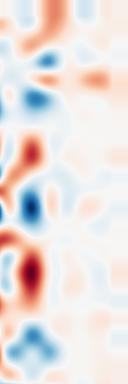filament: (10, 239, 56, 315)
